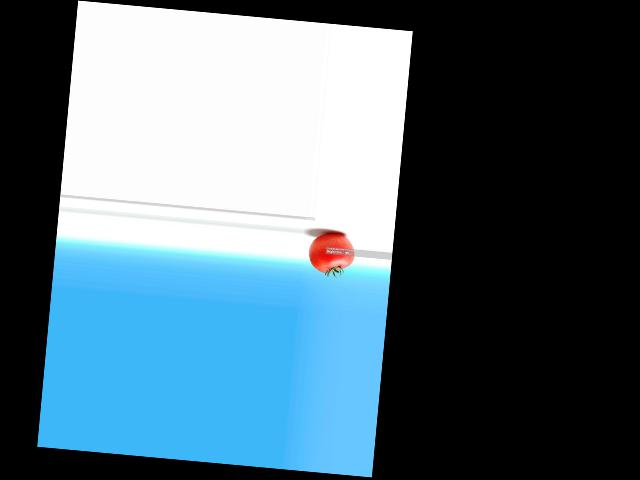tomato: (307, 232, 356, 275)
